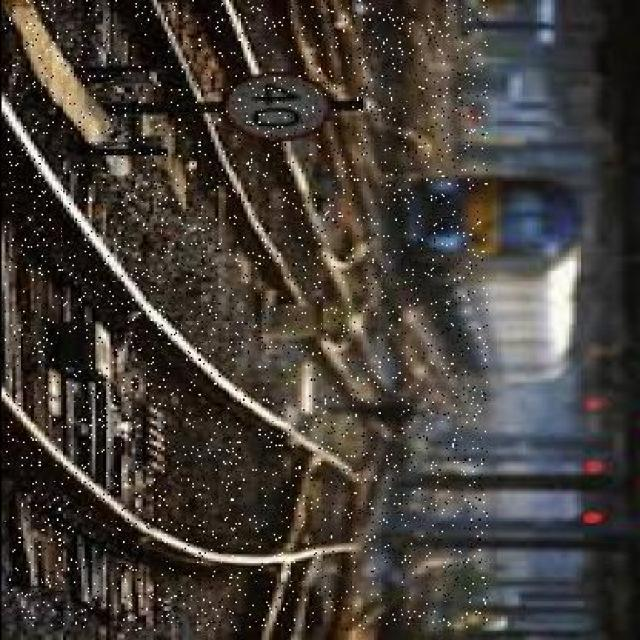rail: (4, 2, 487, 632)
